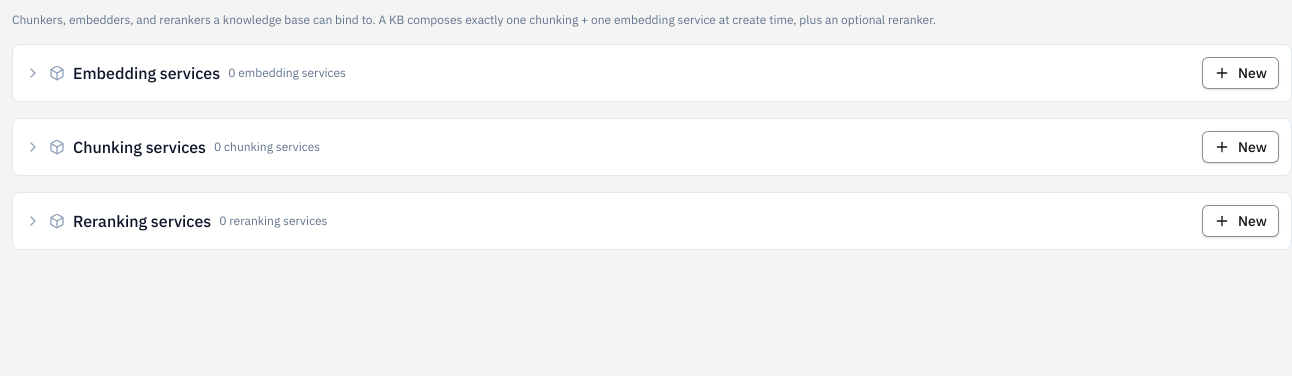
Test: ServicesPanel › shows the loading state inside an expanded subpanel while the list query is pending
Click the button "Embedding services 0 embedding services".
click(147, 73)  # box [25, 61, 1190, 85]
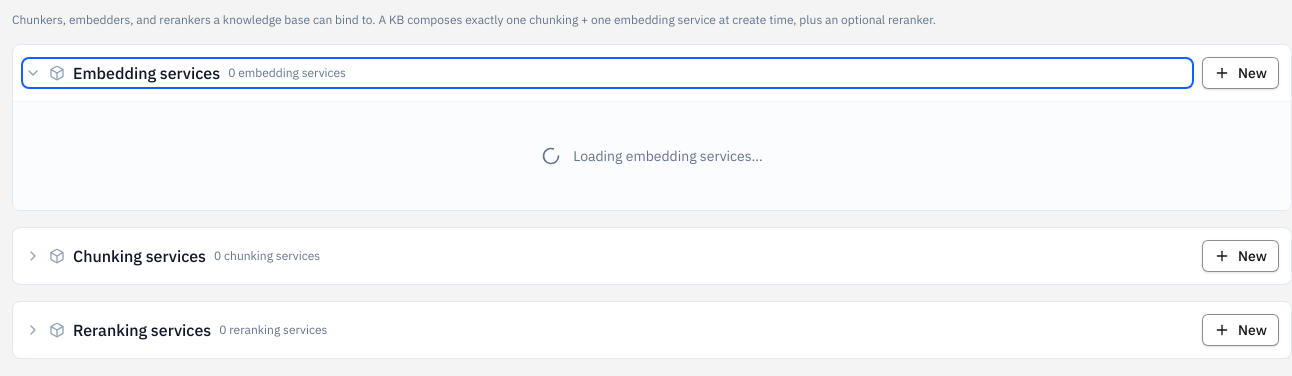
Expected: the text "Loading embedding services…" is shown, [573, 146, 763, 166]
